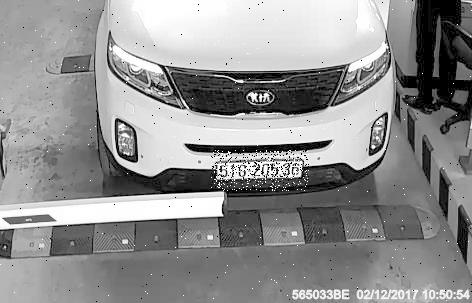License-plate: (212, 151, 310, 192)
